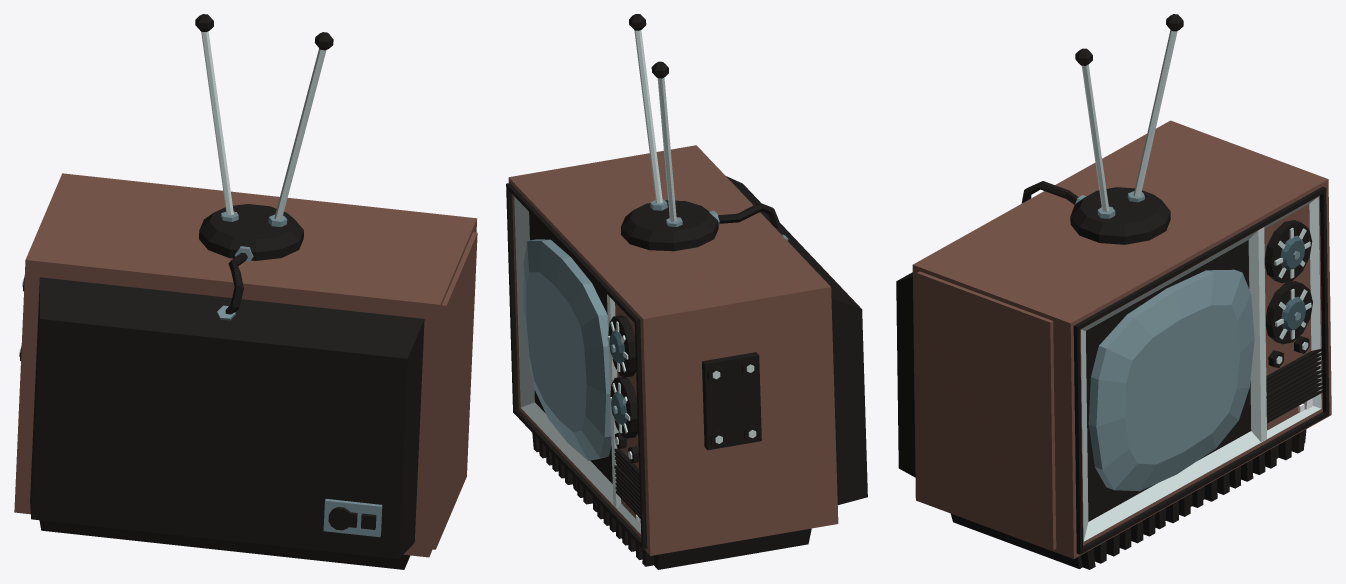
Rendered from FeaturedContent-transformed.glb.
3 views of the same model, side by side, from view 1: azimuth 30°, elevation 25°; view 2: azimuth 150°, elevation 25°; view 3: azimuth 270°, elevation 25° (orthographic). The views are drawn at different scales.
Visible parts, largest first — view 1: group1078865745; view 2: group1078865745; view 3: group1078865745.
Part boxes in pixels (left/top/right/bottom): group1078865745: left=14, top=14, right=477, bottom=569; group1078865745: left=506, top=14, right=867, bottom=569; group1078865745: left=896, top=14, right=1331, bottom=569.
Bounding box in the file's own units: 0.6722 × 0.759 × 0.6375.
1 material, 1 textured.
